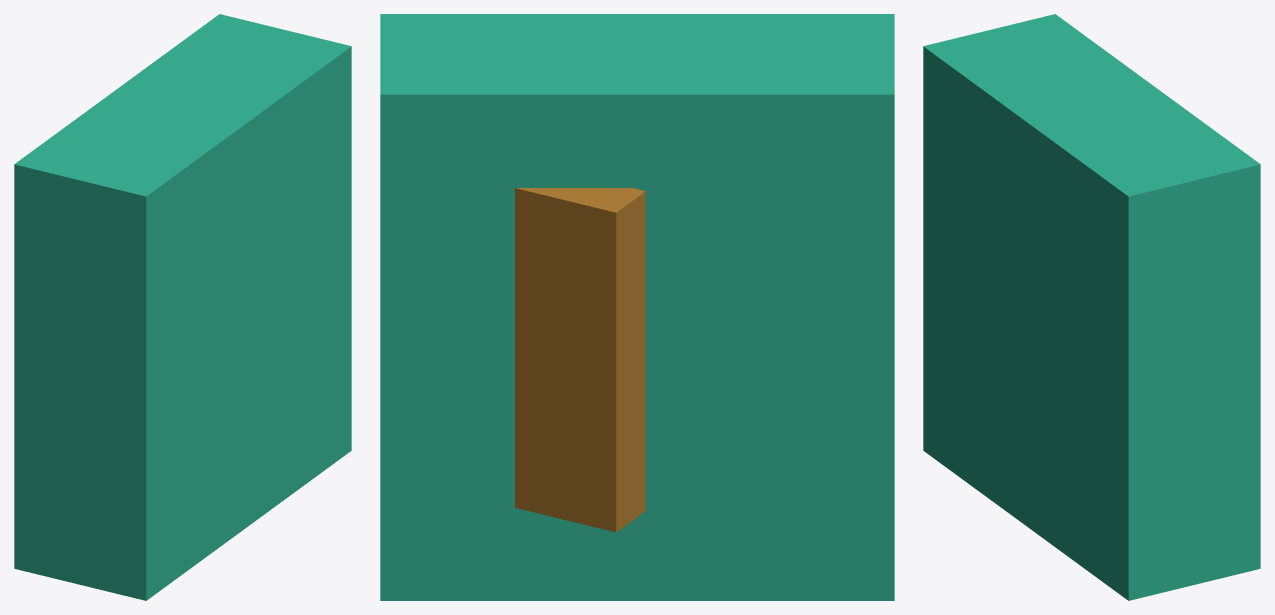
The model's file is seal.glb.
3 views of the same model, side by side, from view 1: azimuth 30°, elevation 25°; view 2: azimuth 150°, elevation 25°; view 3: azimuth 270°, elevation 25° (orthographic). The views are drawn at different scales.
Visible parts, largest first — view 1: 灯印; view 2: 灯印; view 3: 灯印.
Boxes of the visible parts, x1,y1,x2,y2 form: 灯印: [14, 14, 351, 600]; 灯印: [380, 14, 894, 600]; 灯印: [923, 14, 1260, 600].
Size of the model in its own units: 0.3681 by 0.38 by 0.2876.
